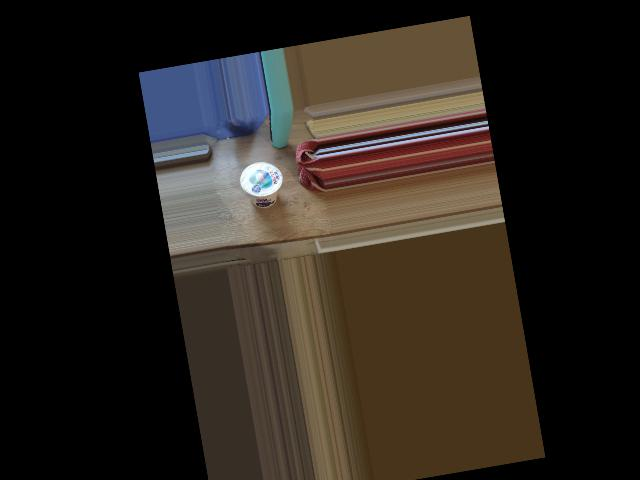cotage: (239, 156, 284, 212)
